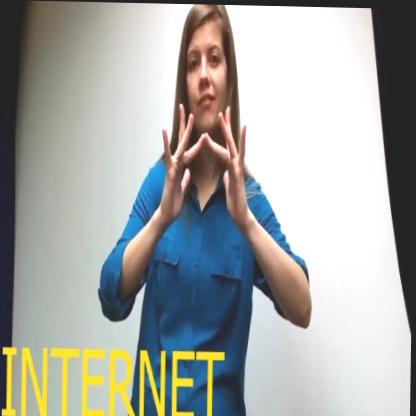Internet: (164, 97, 253, 242)
